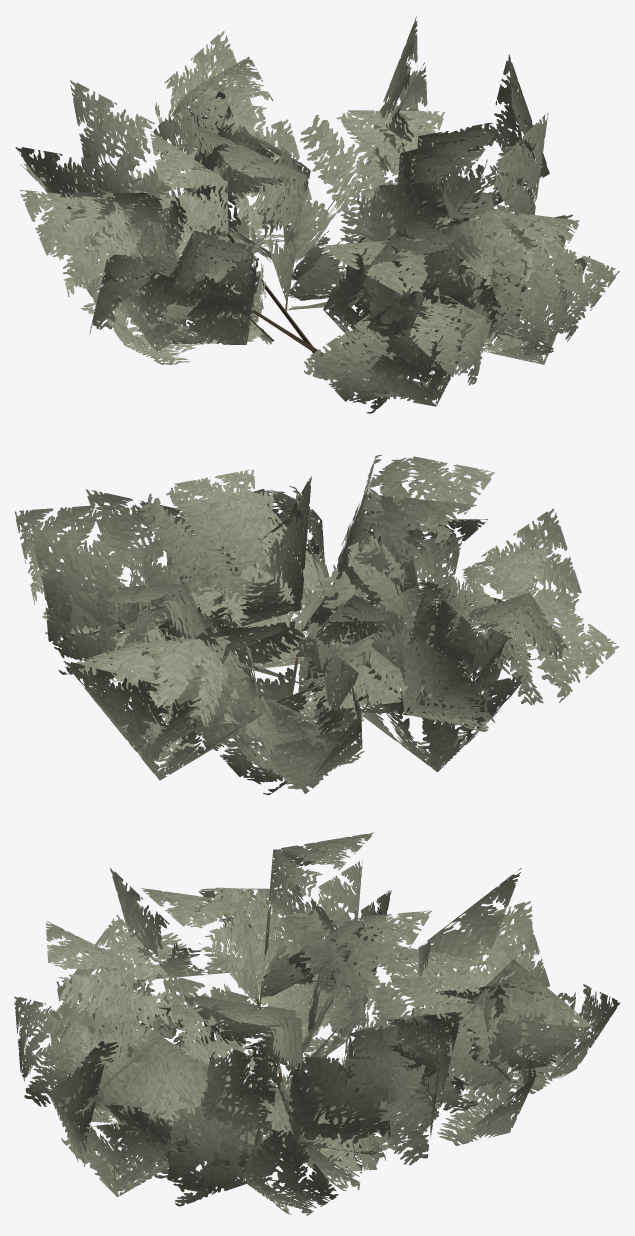
The model's file is SM_CN_Sage_A_LOD2.fbx.
3 views of the same model, one above another, from view 1: azimuth 30°, elevation 25°; view 2: azimuth 150°, elevation 25°; view 3: azimuth 270°, elevation 25° (orthographic).
Parts seen in each view (by area): view 1: SM_CN_Sage_A_LOD2; view 2: SM_CN_Sage_A_LOD2; view 3: SM_CN_Sage_A_LOD2.
Boxes of the visible parts, box(x1,y1,x2,y2) form: SM_CN_Sage_A_LOD2: box(15, 16, 619, 413); SM_CN_Sage_A_LOD2: box(14, 454, 619, 794); SM_CN_Sage_A_LOD2: box(14, 832, 619, 1215).
Bounding box in the file's own units: 0.9682 × 1 × 0.45.
